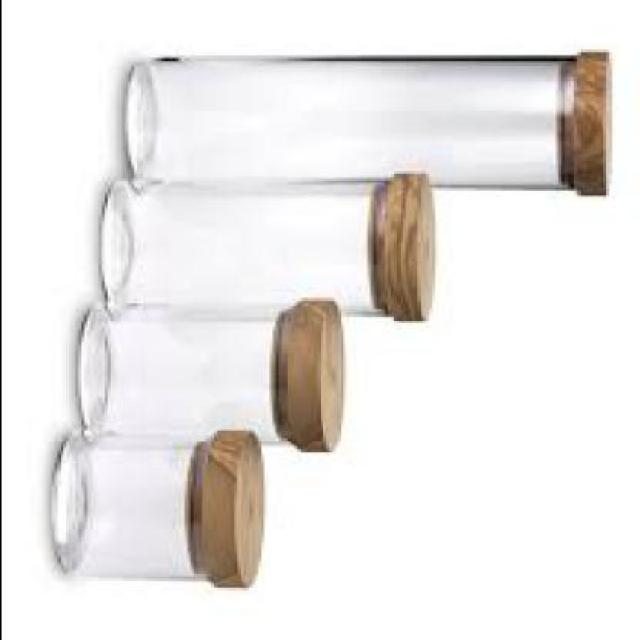GLASS: (129, 56, 582, 184), (97, 173, 392, 315), (74, 300, 286, 442), (50, 433, 213, 576)
